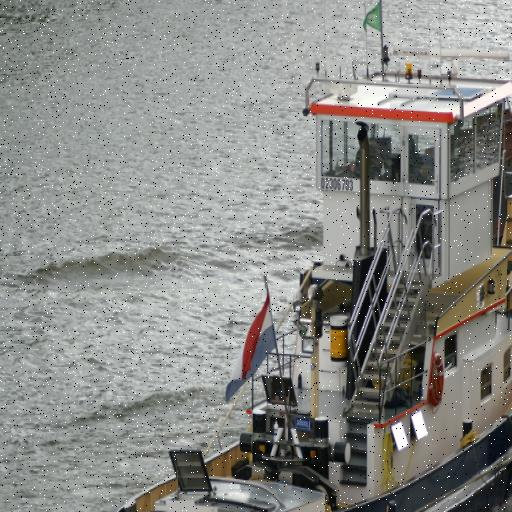tugboat: (66, 44, 512, 512)
